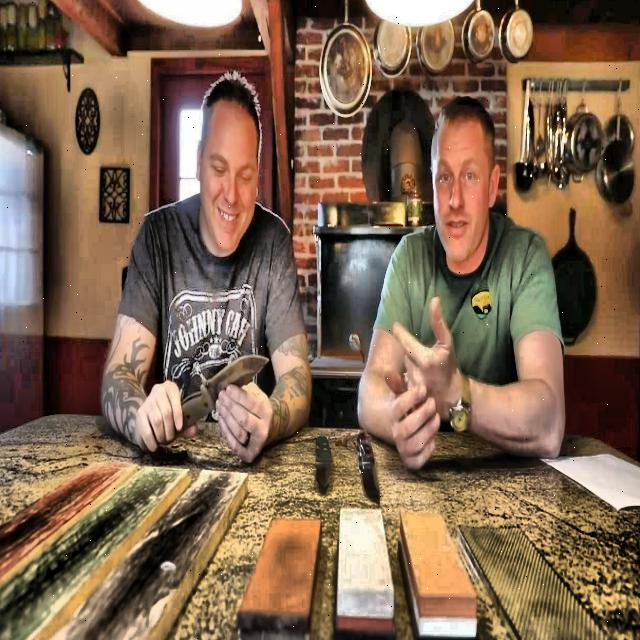knife: (182, 357, 267, 433), (358, 429, 381, 504), (314, 436, 334, 486)
